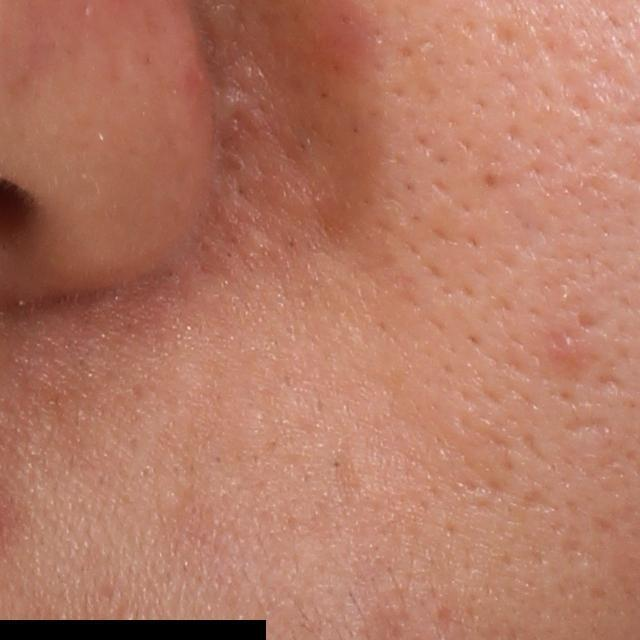atrophic_scar: (562, 414, 613, 442)
papule: (549, 328, 587, 374)
